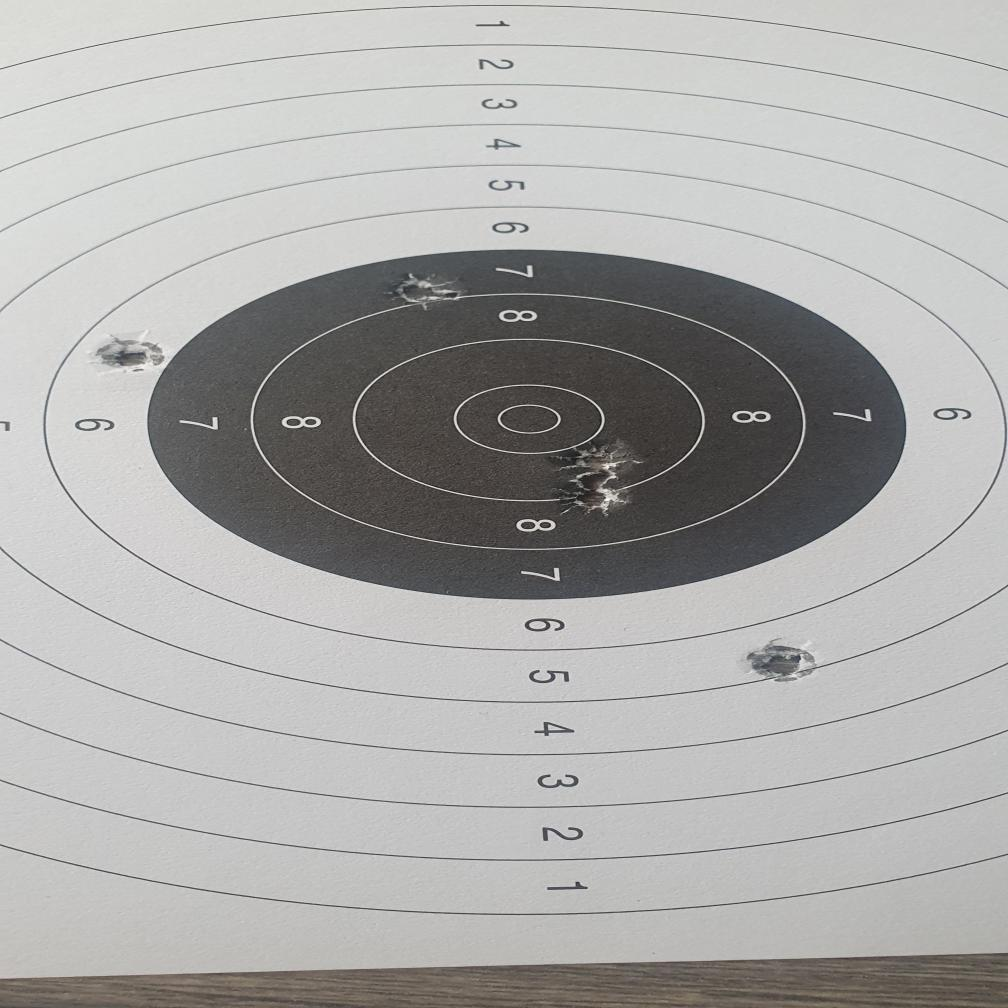5: (738, 640, 829, 685)
6: (85, 331, 168, 374)
8: (389, 272, 467, 312)
9: (553, 441, 643, 485), (554, 487, 633, 518)
Target: (0, 3, 1008, 918)
black_contour: (150, 247, 910, 599)
